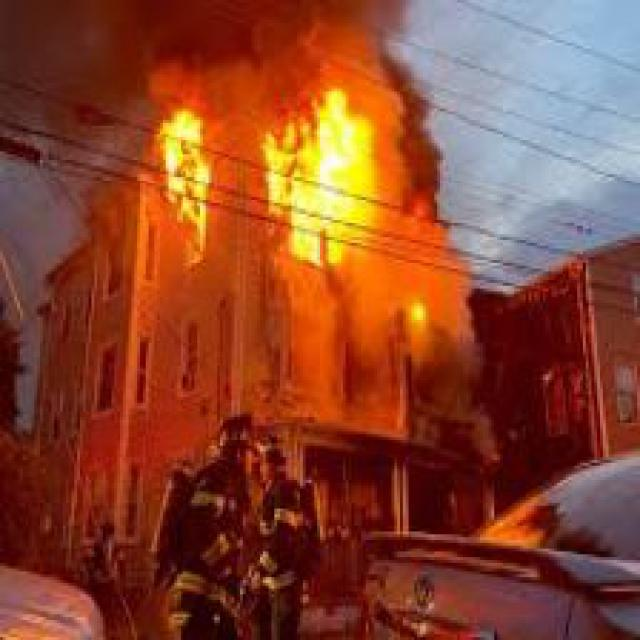fire: (254, 77, 392, 274), (143, 100, 223, 274)
